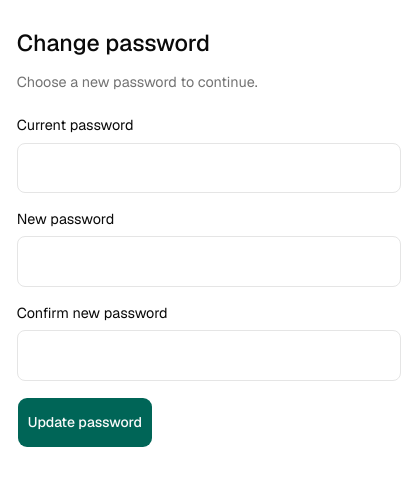
Scenario: change-password form › shows RATE_LIMITED message and keeps the form
Step 1. Type "old-pass" into the password field labelled "Current password" → (209, 168), box [17,142,401,193]
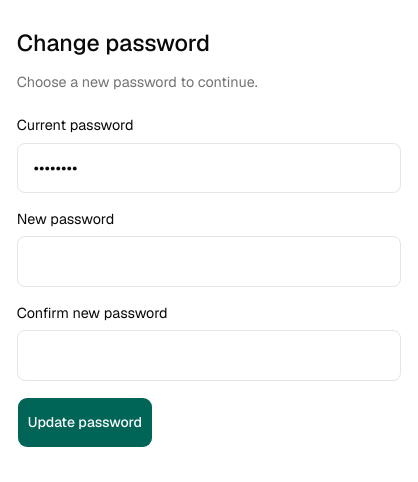
Step 2. Type "GoodPass99!" into the password field labelled "New password" → (209, 262), box [17,236,401,287]
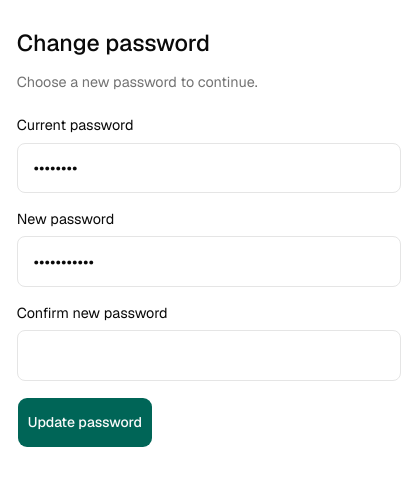
Step 3. Type "GoodPass99!" into the password field labelled "Confirm new password" → (209, 356), box [17,330,401,381]
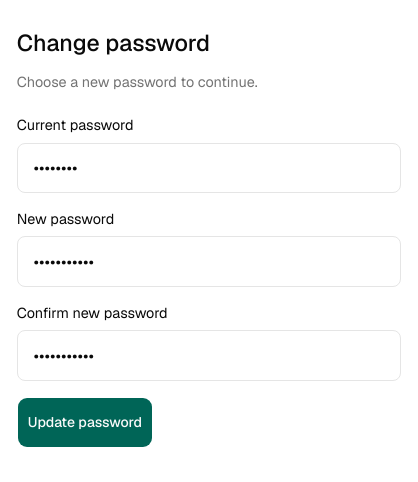
Step 4. Click the button "Update password" → (85, 422), box [17,397,153,448]
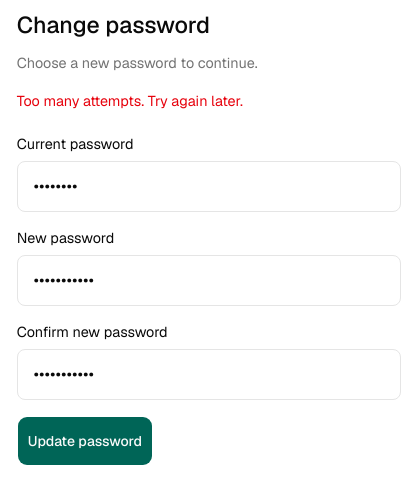
Expected: the message reads "Too many attempts. Try again later.", [17,92,243,110]
